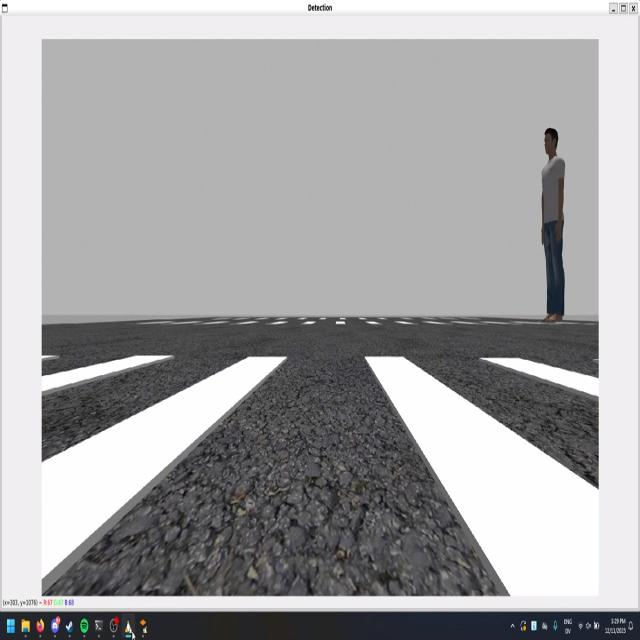crosswalk: (42, 352, 598, 596)
ped: (538, 119, 570, 327)
